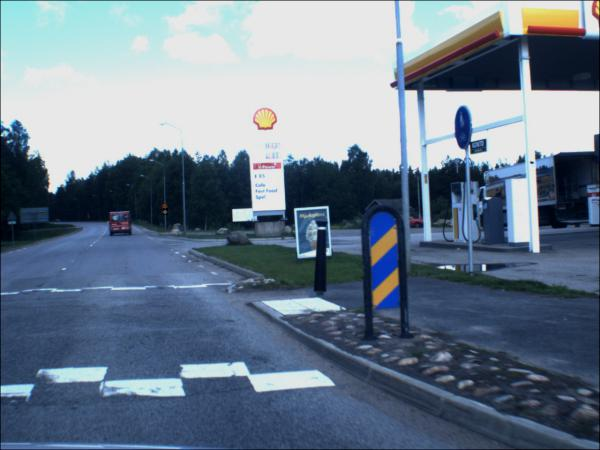50_SIGN: (163, 204, 169, 211)
PRIORITY_ROAD: (164, 210, 170, 218)
